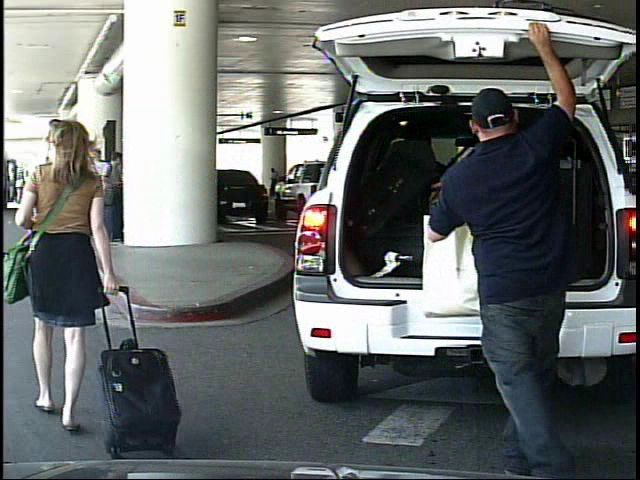person: (422, 20, 608, 480), (16, 113, 140, 439), (269, 165, 280, 201), (16, 173, 25, 200)
